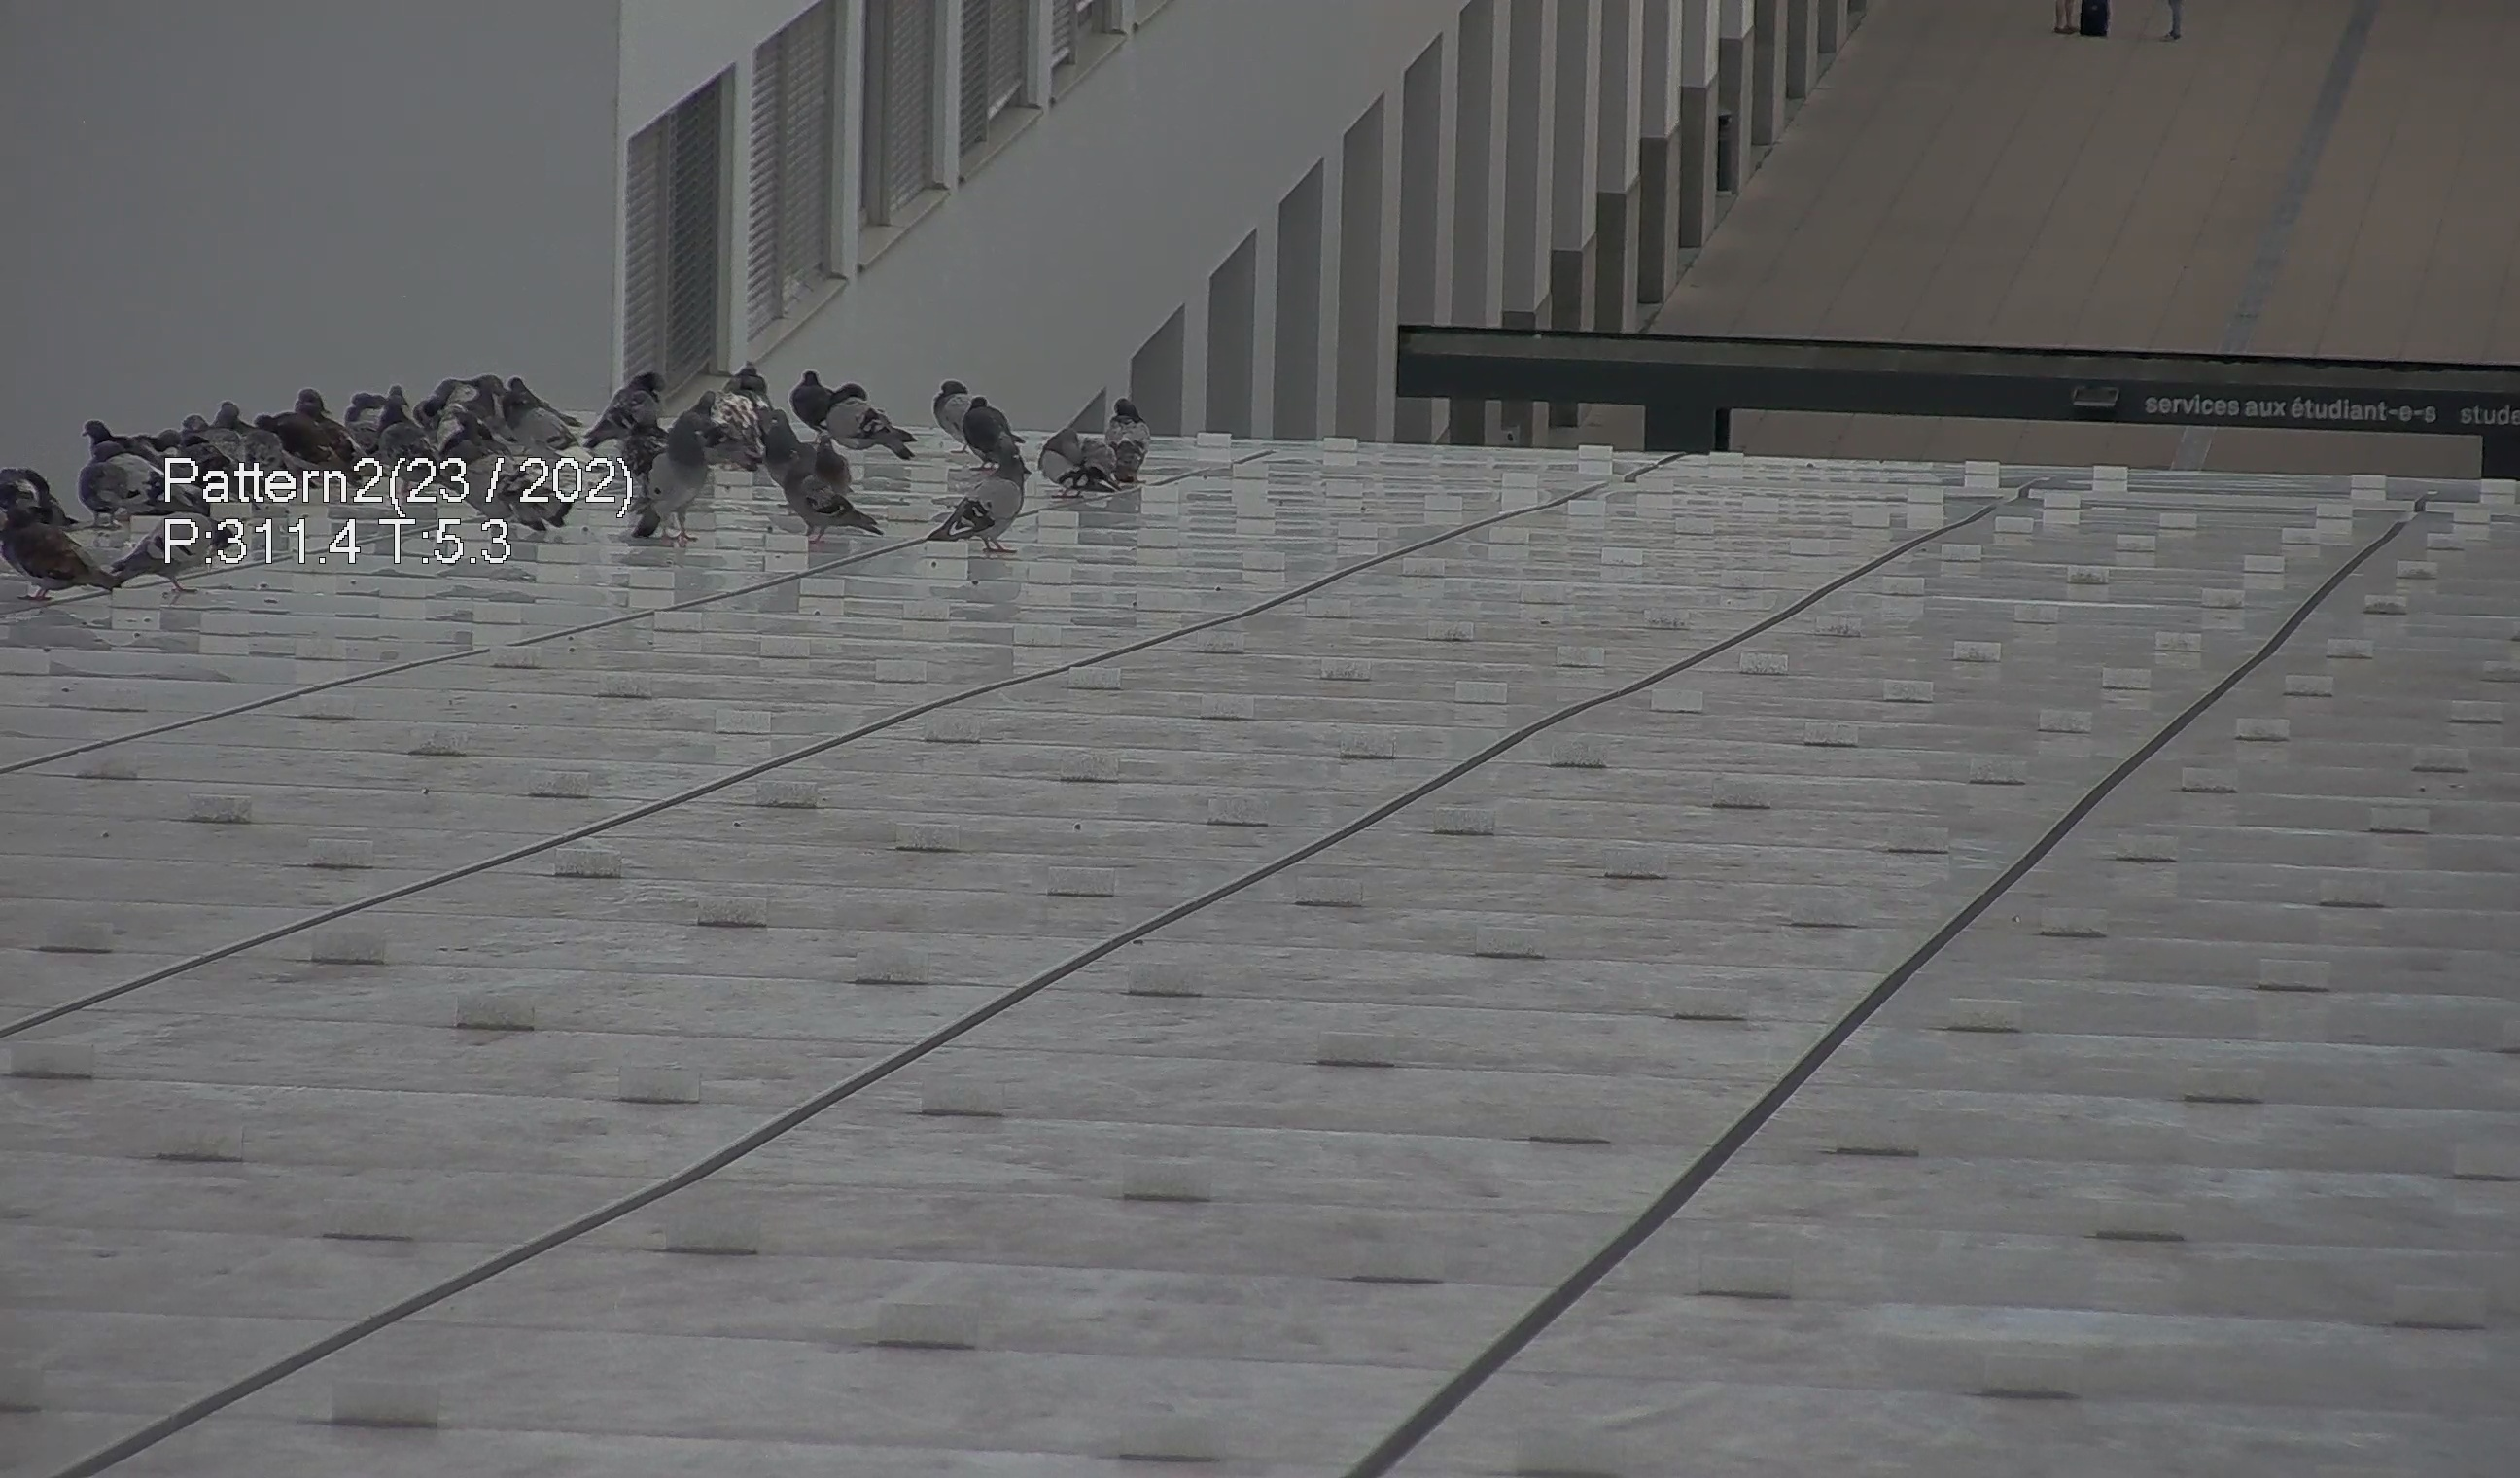Pigeon: (2, 459, 158, 612), (614, 391, 732, 547), (890, 461, 1020, 558), (452, 412, 556, 530), (106, 509, 237, 596), (251, 375, 355, 477), (79, 413, 179, 519), (387, 391, 454, 512), (783, 461, 876, 547), (598, 362, 693, 447), (960, 394, 1046, 479), (498, 377, 582, 461), (823, 384, 916, 459), (1039, 419, 1118, 503), (1096, 396, 1164, 491), (753, 401, 811, 479), (784, 359, 834, 442), (927, 375, 981, 443)
